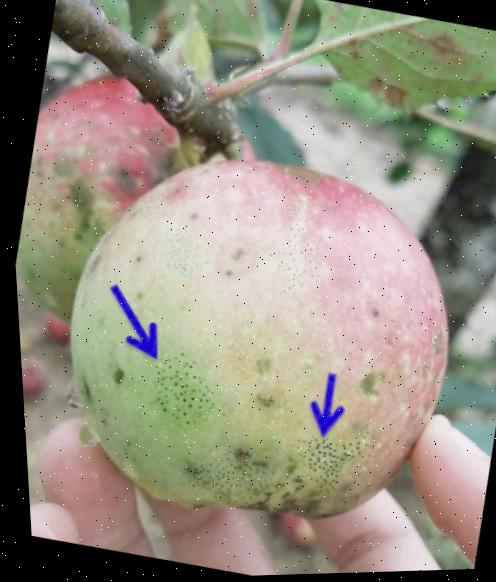BLOTCH: (6, 88, 496, 582)
